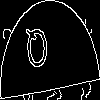Q: (25, 24, 50, 78)
